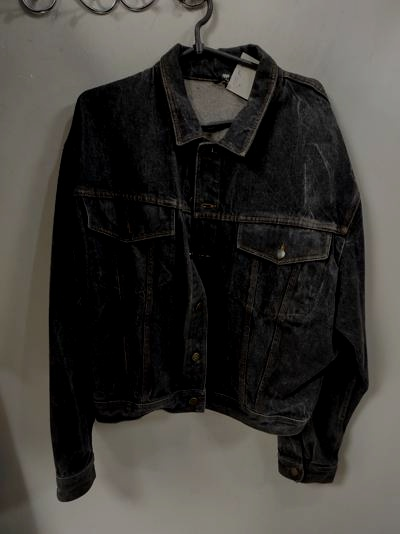Blazer: (22, 56, 379, 497)
